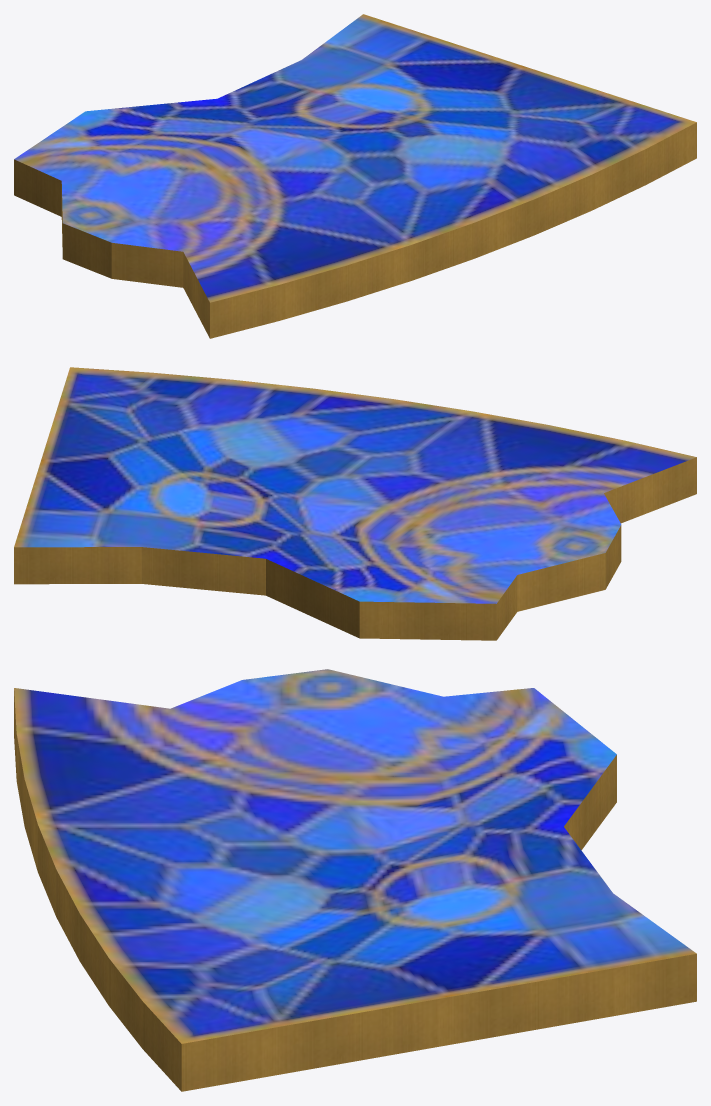
Rendered from lb_chunk_5_4.glb.
3 views of the same model, one above another, from view 1: azimuth 30°, elevation 25°; view 2: azimuth 150°, elevation 25°; view 3: azimuth 270°, elevation 25° (orthographic). The views are drawn at different scales.
Visible parts, largest first — view 1: lb_chunk_5_4; view 2: lb_chunk_5_4; view 3: lb_chunk_5_4.
Part boxes in pixels (left/top/right/bottom): lb_chunk_5_4: left=14, top=14, right=696, bottom=338; lb_chunk_5_4: left=14, top=367, right=696, bottom=640; lb_chunk_5_4: left=14, top=669, right=696, bottom=1091.
Bounding box in the file's own units: 6.04 × 0.36 × 4.65.
2 materials, 2 textured.
